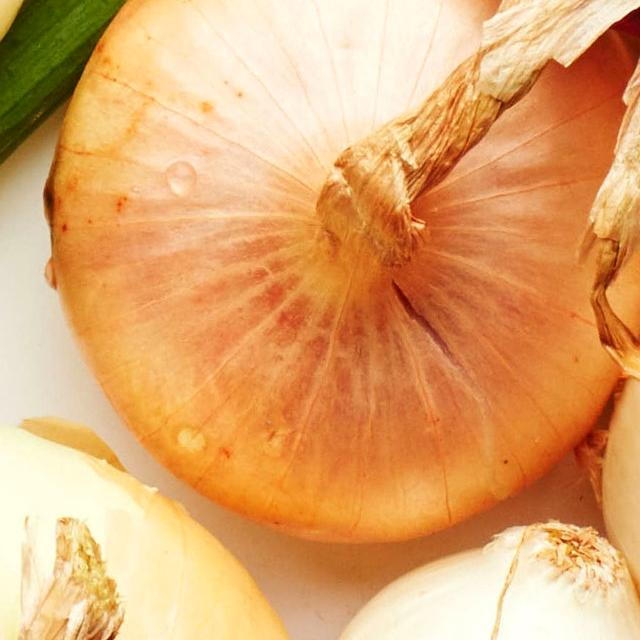onion: (48, 0, 633, 545)
